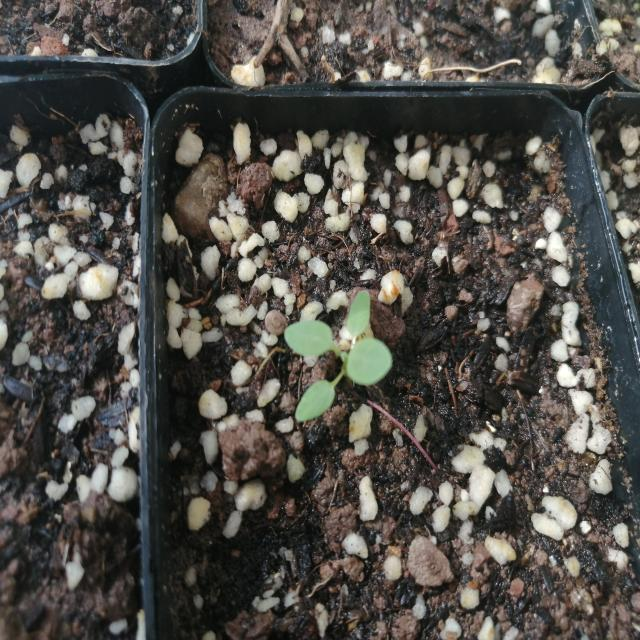goosefoots: (266, 286, 412, 431)
